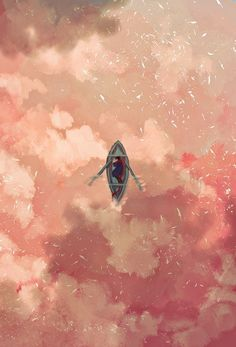boat: (95, 138, 147, 206)
